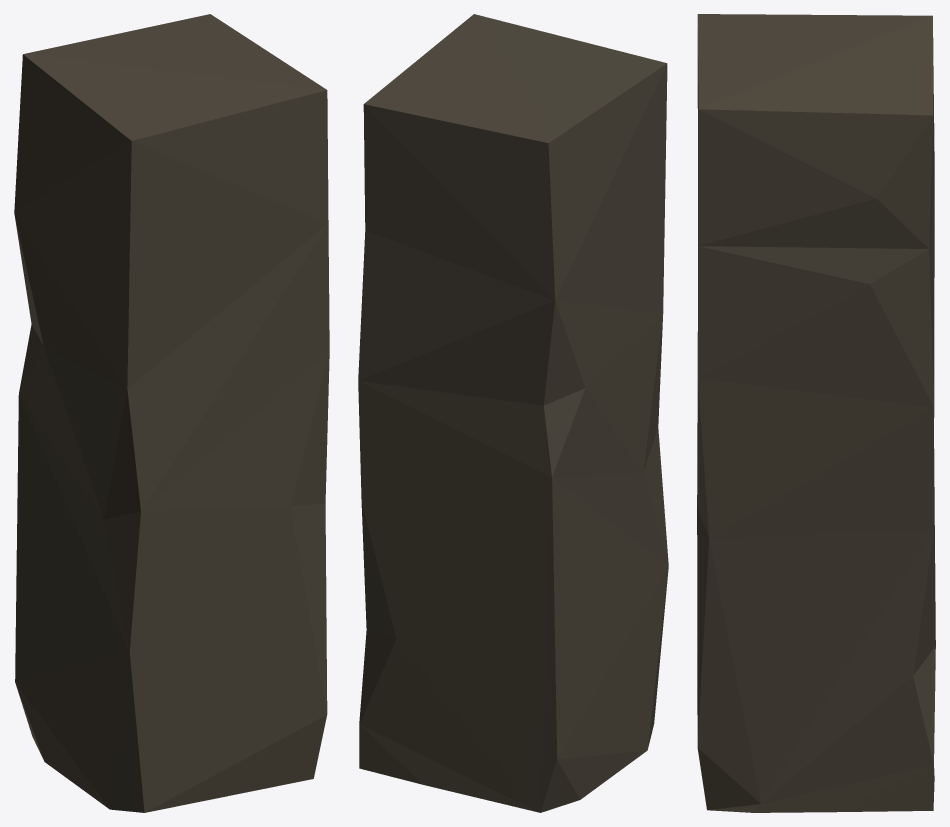
File: Pillar_3.fbx
3 views of the same model, side by side, from view 1: azimuth 30°, elevation 25°; view 2: azimuth 150°, elevation 25°; view 3: azimuth 270°, elevation 25° (orthographic). The views are drawn at different scales.
Parts seen in each view (by area): view 1: Group65520; view 2: Group65520; view 3: Group65520.
Boxes of the visible parts, x1,y1,x2,y2 form: Group65520: [14, 14, 329, 812]; Group65520: [358, 14, 668, 812]; Group65520: [697, 14, 935, 812].
Bounding box in the file's own units: 1.29 × 4.16 × 1.27.
